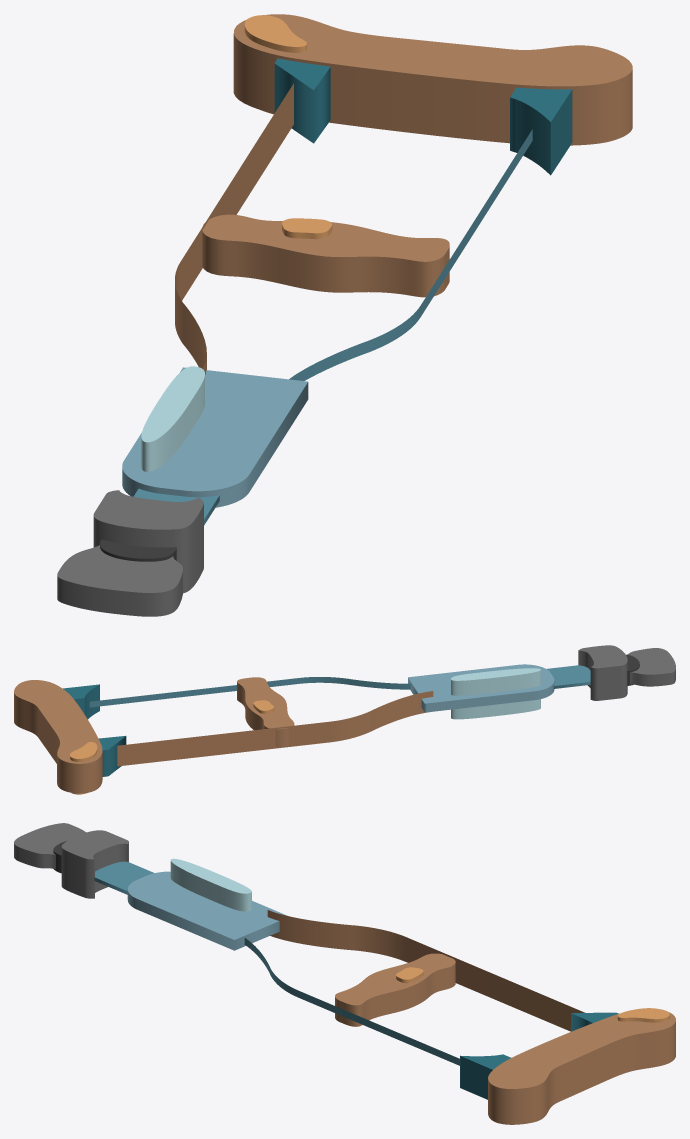
The model's file is emoji_u1fa7c.glb.
3 views of the same model, one above another, from view 1: azimuth 30°, elevation 25°; view 2: azimuth 150°, elevation 25°; view 3: azimuth 270°, elevation 25° (orthographic). The views are drawn at different scales.
Visible parts, largest first — view 1: emoji_u1fa7c; view 2: emoji_u1fa7c; view 3: emoji_u1fa7c.
Boxes of the visible parts, x1,y1,x2,y2 form: emoji_u1fa7c: (57, 14, 632, 616); emoji_u1fa7c: (14, 645, 675, 794); emoji_u1fa7c: (14, 823, 675, 1124).
Size of the model in its own units: 0.0332 by 0.0026 by 0.0335.
